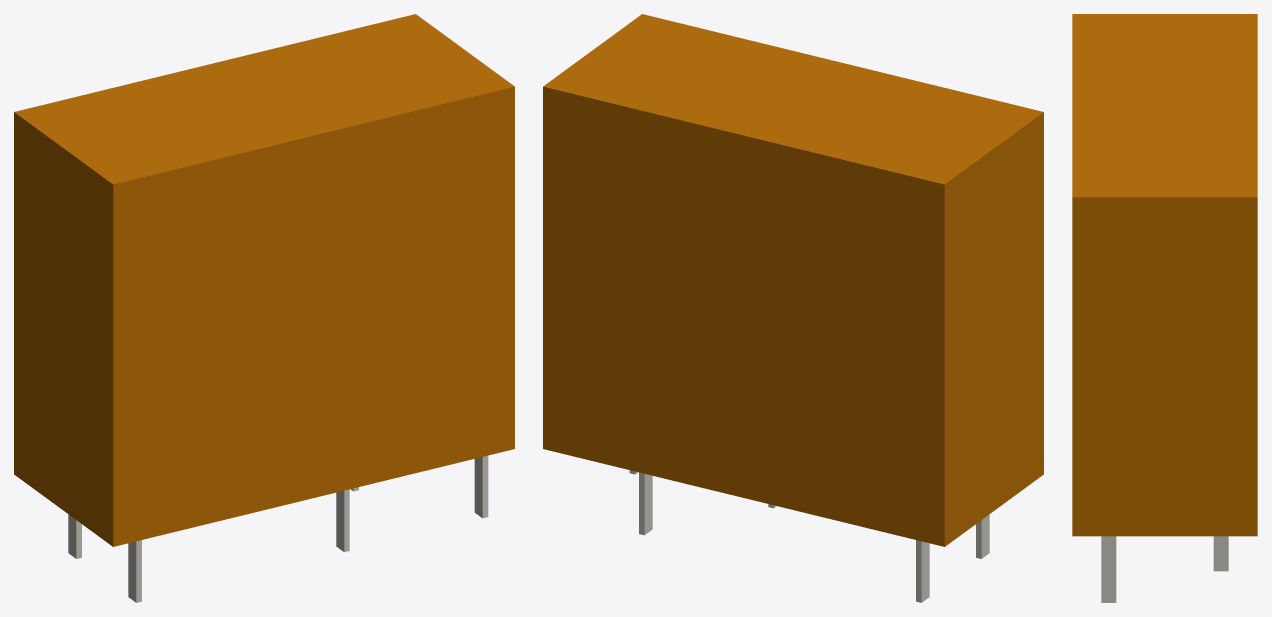
File: kc-relay_spdt_finder_40.51.glb
3 views of the same model, side by side, from view 1: azimuth 30°, elevation 25°; view 2: azimuth 150°, elevation 25°; view 3: azimuth 270°, elevation 25° (orthographic). The views are drawn at different scales.
Parts seen in each view (by area): view 1: 0.5_0.16666666666666666_0_0, 0.6666666666666666_0.6666666666666666_0.5833333333333334_0.8; view 2: 0.5_0.16666666666666666_0_0, 0.6666666666666666_0.6666666666666666_0.5833333333333334_0.8; view 3: 0.5_0.16666666666666666_0_0, 0.6666666666666666_0.6666666666666666_0.5833333333333334_0.8.
Part boxes in pixels (x1,y1,x2,y2): 0.5_0.16666666666666666_0_0: [14, 14, 514, 546]; 0.6666666666666666_0.6666666666666666_0.5833333333333334_0.8: [68, 455, 488, 602]; 0.5_0.16666666666666666_0_0: [543, 14, 1043, 546]; 0.6666666666666666_0.6666666666666666_0.5833333333333334_0.8: [629, 470, 989, 602]; 0.5_0.16666666666666666_0_0: [1072, 14, 1257, 536]; 0.6666666666666666_0.6666666666666666_0.5833333333333334_0.8: [1101, 536, 1228, 602].
Size of the model in its own units: 2.9 by 3.03 by 1.24.
